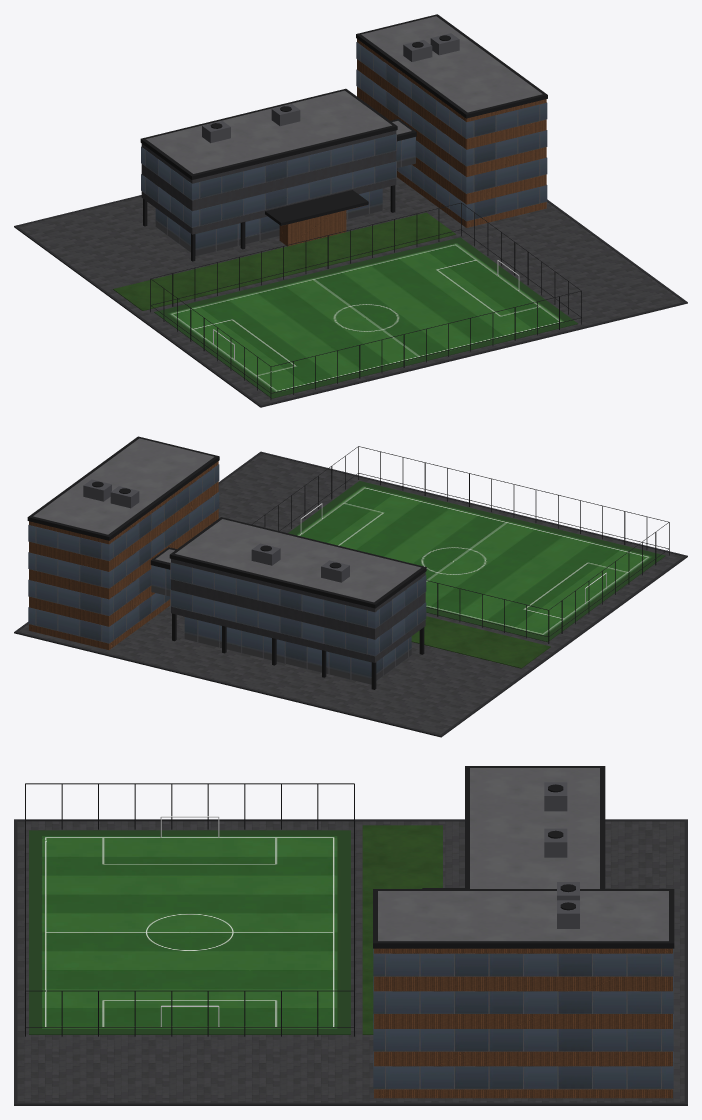
The model's file is academy_L4.glb.
3 views of the same model, one above another, from view 1: azimuth 30°, elevation 25°; view 2: azimuth 150°, elevation 25°; view 3: azimuth 270°, elevation 25° (orthographic). The views are drawn at different scales.
Visible parts, largest first — view 1: turf_acad_academy_L4, paving_academy_L4, emissive_curtain_academy_L4, roofing_academy_L4, black_metal_academy_L4, lawn_academy_L4, wood_academy_L4, cladding_academy_L4, concrete_dark_academy_L4, steel_academy_L4; view 2: paving_academy_L4, turf_acad_academy_L4, emissive_curtain_academy_L4, roofing_academy_L4, black_metal_academy_L4, wood_academy_L4, cladding_academy_L4, lawn_academy_L4, concrete_dark_academy_L4, steel_academy_L4; view 3: turf_acad_academy_L4, paving_academy_L4, emissive_curtain_academy_L4, roofing_academy_L4, wood_academy_L4, black_metal_academy_L4, lawn_academy_L4, concrete_dark_academy_L4, steel_academy_L4.
Boxes of the visible parts, <box> form: turf_acad_academy_L4: <box>154,237,577,398</box>; paving_academy_L4: <box>18,177,683,404</box>; emissive_curtain_academy_L4: <box>141,42,547,255</box>; roofing_academy_L4: <box>146,16,542,173</box>; black_metal_academy_L4: <box>140,14,581,399</box>; lawn_academy_L4: <box>113,212,455,310</box>; wood_academy_L4: <box>279,39,546,246</box>; cladding_academy_L4: <box>141,130,396,234</box>; concrete_dark_academy_L4: <box>14,195,687,407</box>; steel_academy_L4: <box>202,33,459,143</box>; paving_academy_L4: <box>18,453,683,734</box>; turf_acad_academy_L4: <box>288,481,665,642</box>; emissive_curtain_academy_L4: <box>28,464,426,684</box>; roofing_academy_L4: <box>33,438,421,602</box>; black_metal_academy_L4: <box>27,436,669,689</box>; wood_academy_L4: <box>29,461,218,649</box>; cladding_academy_L4: <box>171,559,425,662</box>; lawn_academy_L4: <box>411,616,550,668</box>; concrete_dark_academy_L4: <box>14,451,687,737</box>; steel_academy_L4: <box>83,479,349,582</box>; turf_acad_academy_L4: <box>29,830,350,1034</box>; paving_academy_L4: <box>17,821,684,1102</box>; emissive_curtain_academy_L4: <box>373,948,673,1089</box>; roofing_academy_L4: <box>378,768,668,941</box>; wood_academy_L4: <box>374,948,672,1098</box>; black_metal_academy_L4: <box>25,766,674,1036</box>; lawn_academy_L4: <box>362,825,442,1034</box>; concrete_dark_academy_L4: <box>14,819,687,1105</box>; steel_academy_L4: <box>544,782,579,928</box>.
Bounding box in the file's own units: 58.6 × 16.64 × 58.6.
11 materials, 7 textured.
